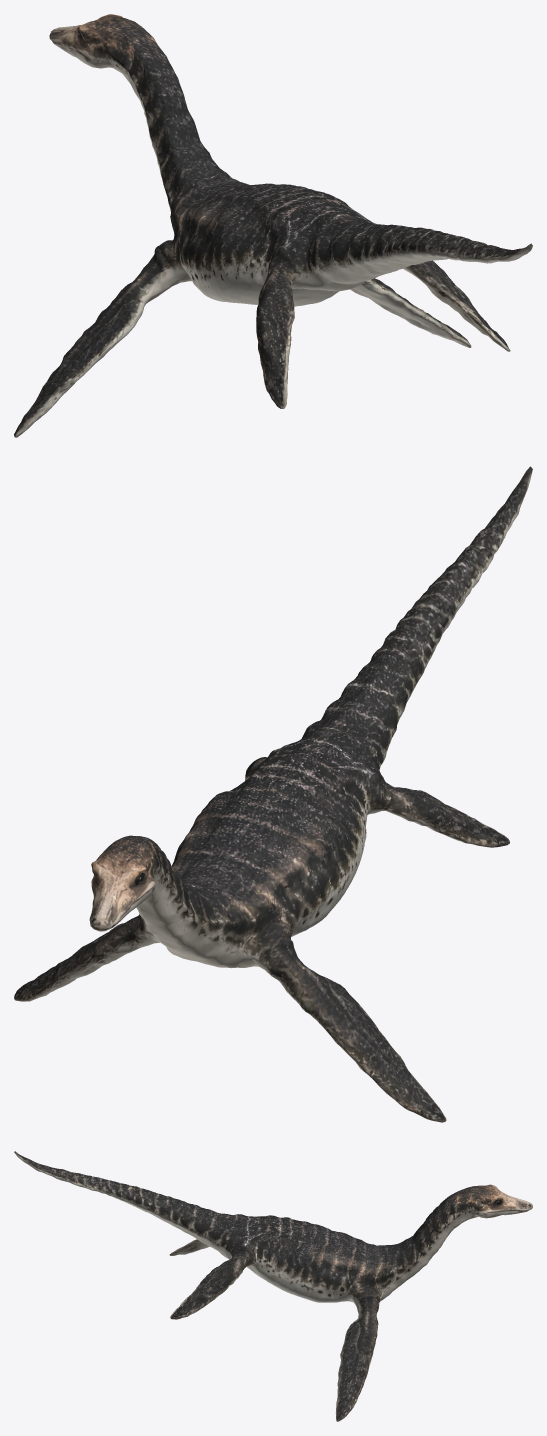
File: keichousaurus.preview.glb
3 views of the same model, one above another, from view 1: azimuth 30°, elevation 25°; view 2: azimuth 150°, elevation 25°; view 3: azimuth 270°, elevation 25° (orthographic). The views are drawn at different scales.
Parts seen in each view (by area): view 1: tripo_node_b42d4163-e0ce-4540-aaf0-43dddedef799.001; view 2: tripo_node_b42d4163-e0ce-4540-aaf0-43dddedef799.001; view 3: tripo_node_b42d4163-e0ce-4540-aaf0-43dddedef799.001.
Part boxes in pixels (<box>): tripo_node_b42d4163-e0ce-4540-aaf0-43dddedef799.001: <box>14,14,532,437</box>; tripo_node_b42d4163-e0ce-4540-aaf0-43dddedef799.001: <box>14,466,532,1122</box>; tripo_node_b42d4163-e0ce-4540-aaf0-43dddedef799.001: <box>14,1151,532,1421</box>.
Bounding box in the file's own units: 0.5613 × 0.4445 × 1.
Materials: 1 (1 with a texture image).
